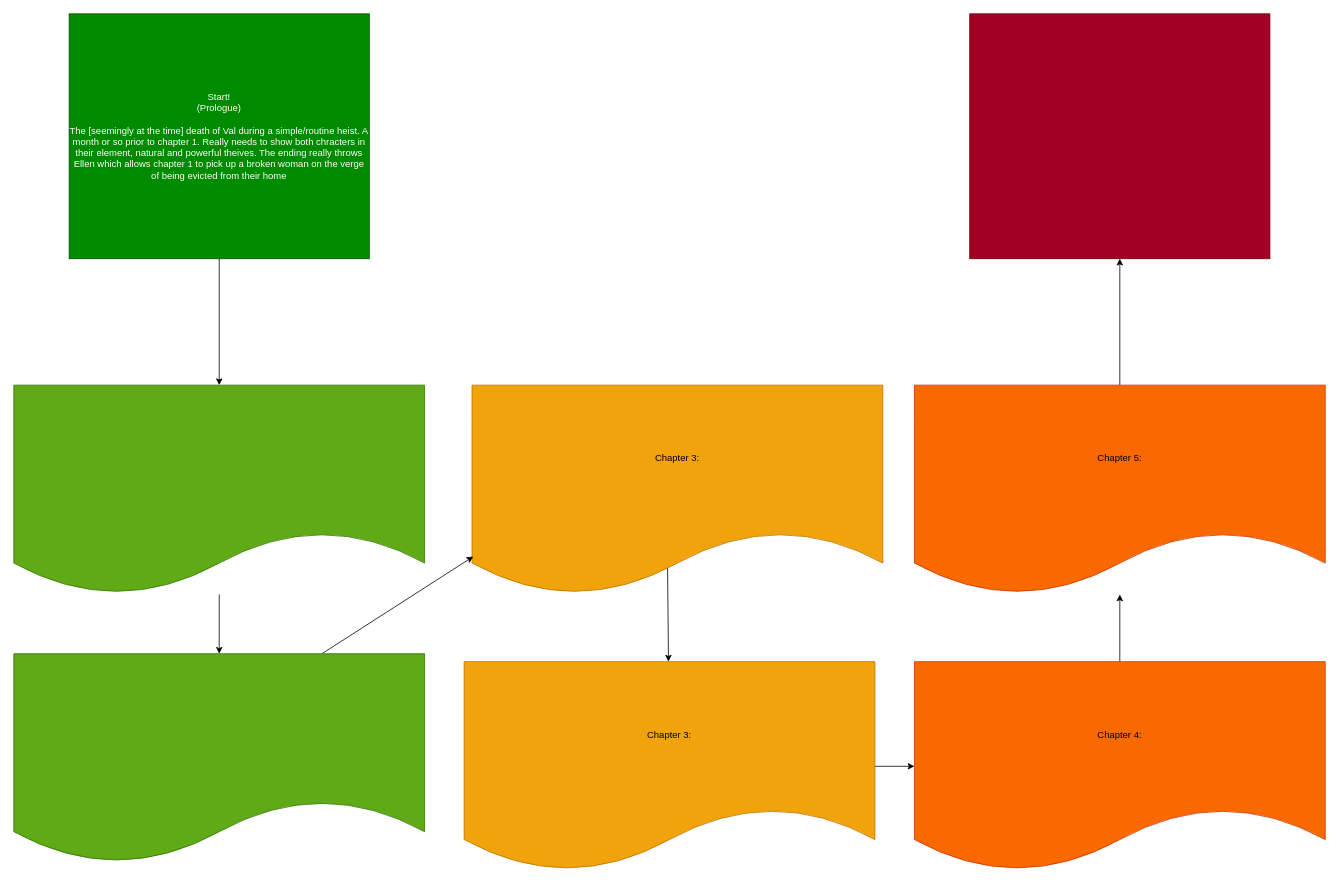
The diagram is 1339 pixels wide and 885 high, and some of its shapes have lost their labels. Here are the shapes that lost their labels. From the top down, the centre of each, then its label:
At point 1119,136: "GOAL (Epilogue)".
At point 219,489: "Chapter 1:".
At point 219,758: "Chapter 2:".
